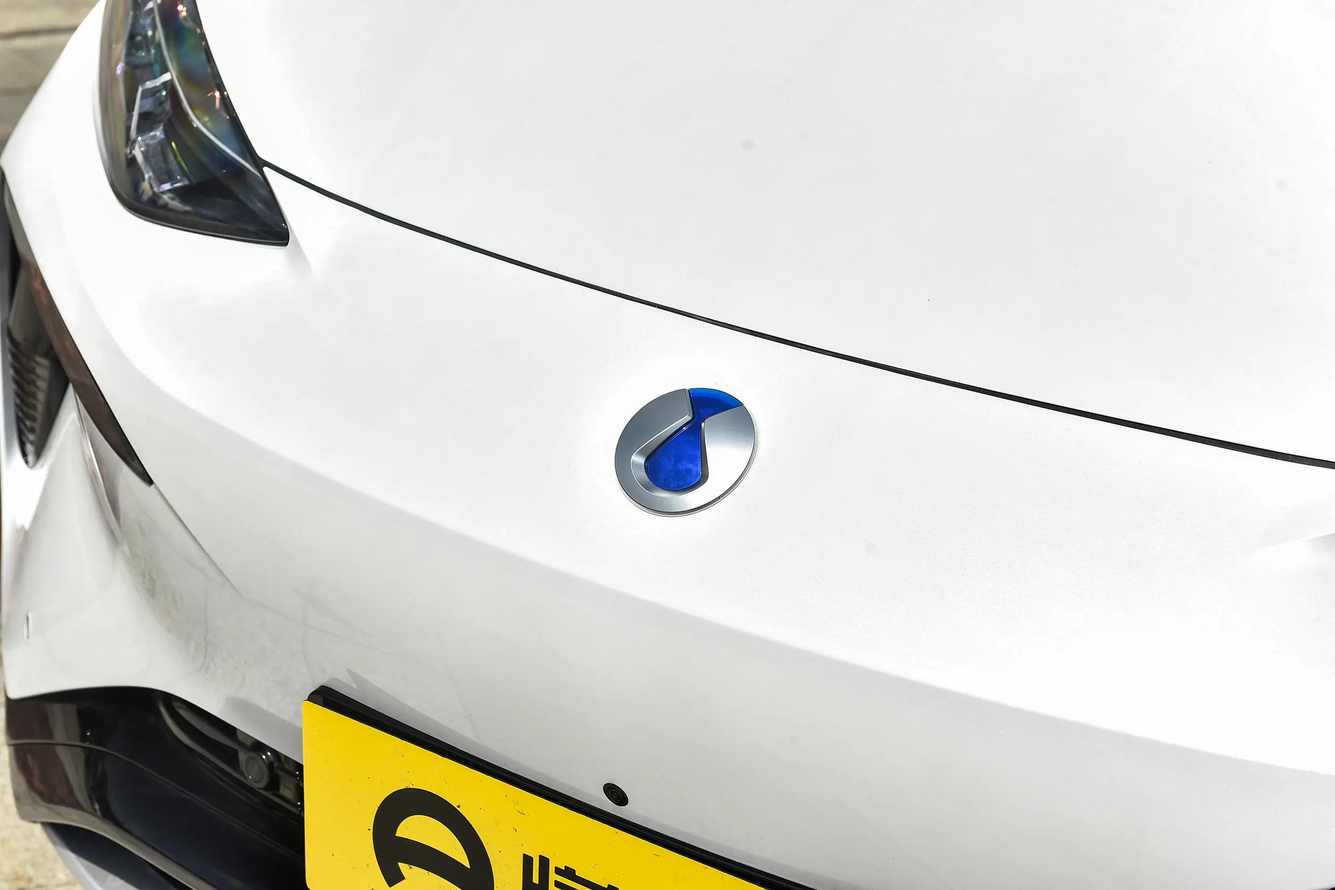DENZA: (615, 387, 755, 514)
